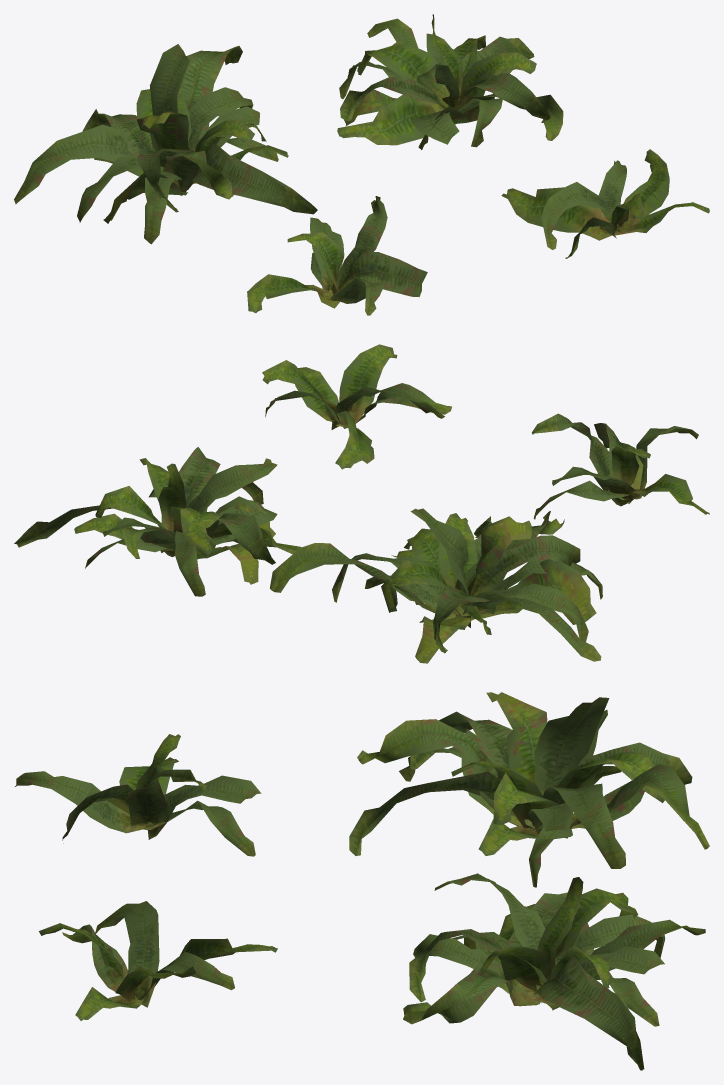
Rendered from scene-fern.glb.
The picture shows the model from 3 angles, top to bottom: view 1: azimuth 30°, elevation 25°; view 2: azimuth 150°, elevation 25°; view 3: azimuth 270°, elevation 25°; orthographic projection. The views are drawn at different scales.
Parts seen in each view (by area): view 1: fern_02_b; view 2: fern_02_b; view 3: fern_02_b.
Boxes of the visible parts, x1,y1,x2,y2 form: fern_02_b: (14, 14, 709, 315); fern_02_b: (14, 344, 709, 663); fern_02_b: (15, 692, 709, 1070).
Size of the model in its own units: 1.97 by 0.4276 by 1.72.
Materials: 1 (1 with a texture image).
